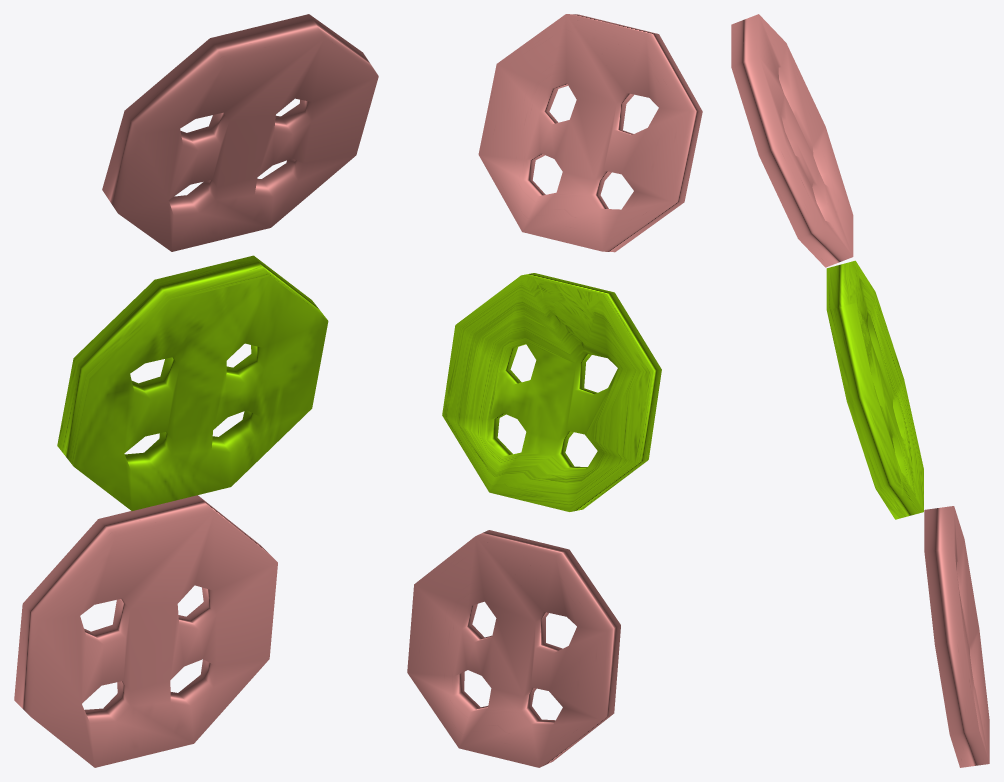
Rendered from item-christmas-buttons.glb.
3 renders of one model, left to right at view 1: azimuth 30°, elevation 25°; view 2: azimuth 150°, elevation 25°; view 3: azimuth 270°, elevation 25°, orthographic. The views are drawn at different scales.
Bounding box in the file's own units: 0.0363 × 0.1184 × 0.039.
2 materials, 2 textured.
